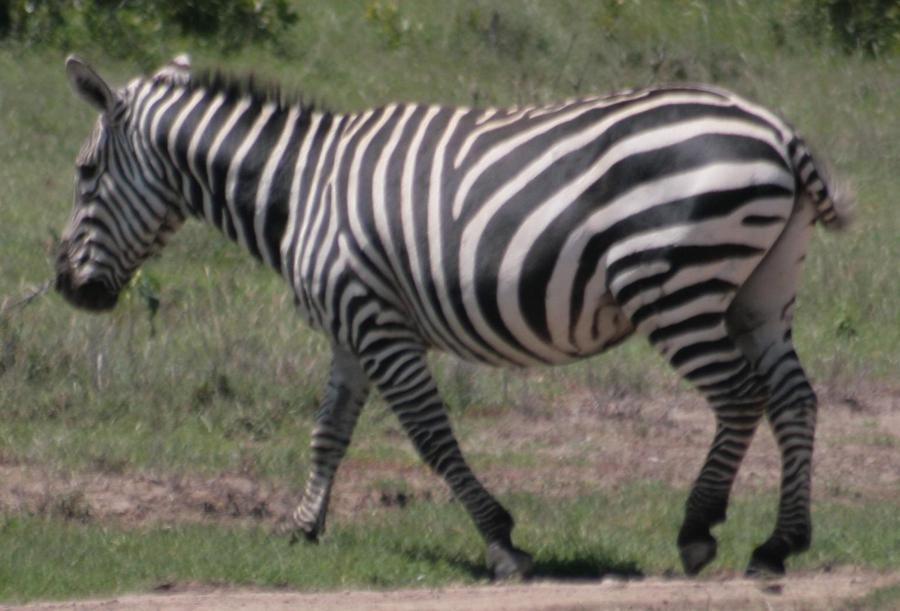zebra_plains: (254, 73, 772, 396)
